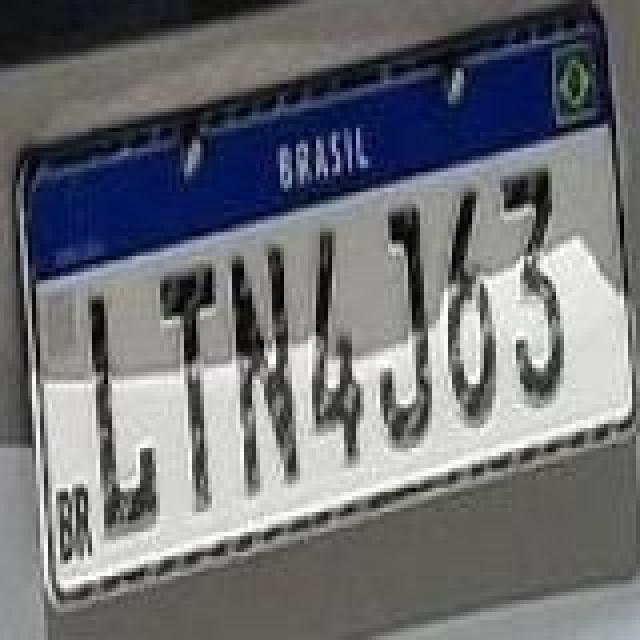3: (502, 164, 570, 412)
4: (306, 230, 366, 466)
6: (444, 190, 500, 434)
J: (374, 198, 434, 450)
L: (82, 292, 158, 540)
N: (226, 242, 302, 502)
T: (158, 262, 218, 514)
